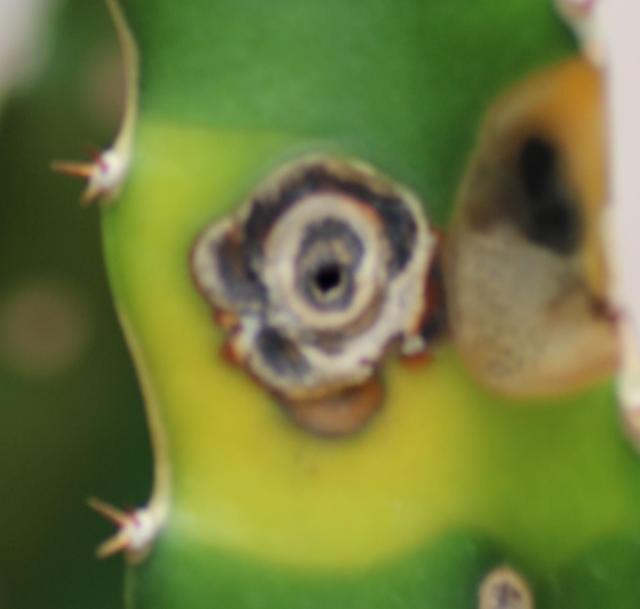stemcanker: (186, 146, 439, 444), (451, 53, 622, 391)
